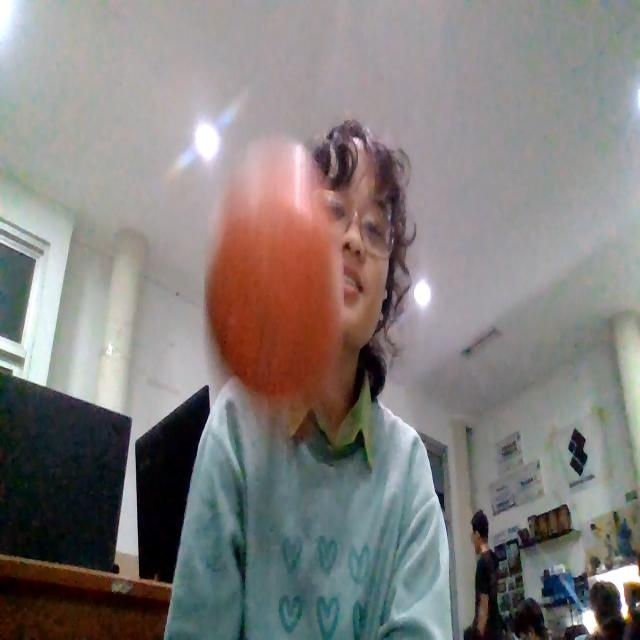ball: (216, 170, 338, 394)
